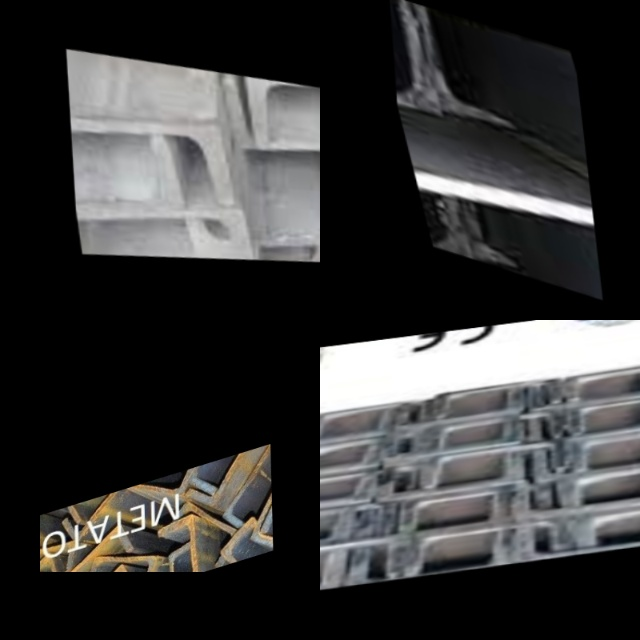Shveller: (390, 0, 595, 230), (409, 151, 603, 302), (70, 101, 234, 222), (75, 191, 249, 269), (71, 124, 181, 226), (190, 174, 320, 259), (226, 66, 320, 158), (351, 532, 508, 584), (412, 515, 561, 567), (518, 511, 640, 562), (250, 71, 320, 157), (379, 456, 512, 500), (517, 470, 640, 517), (427, 443, 556, 485), (407, 487, 545, 526), (385, 422, 517, 458), (532, 436, 640, 479), (176, 493, 234, 572), (320, 536, 403, 590), (526, 404, 640, 443), (439, 412, 555, 450), (437, 380, 556, 417), (533, 371, 640, 411), (399, 391, 515, 426), (225, 445, 272, 530), (320, 463, 422, 501), (320, 400, 424, 436), (320, 505, 390, 549), (320, 433, 419, 464), (562, 466, 640, 505), (64, 526, 130, 572), (580, 507, 640, 549), (224, 515, 273, 565), (571, 364, 640, 398), (320, 412, 388, 446), (578, 432, 640, 469), (251, 454, 273, 554), (572, 398, 640, 429), (84, 543, 153, 572), (160, 518, 197, 572), (320, 476, 364, 517), (320, 445, 373, 479), (320, 515, 349, 558), (40, 538, 74, 572), (320, 553, 339, 609), (169, 544, 199, 572)
